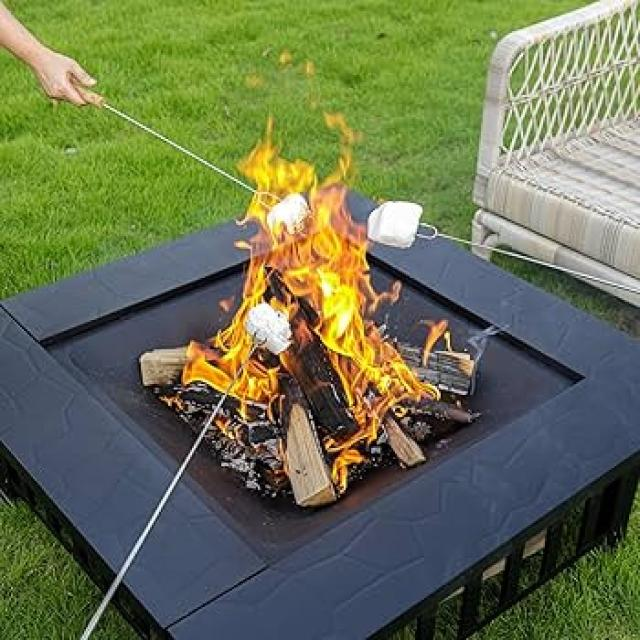fire: (183, 110, 438, 495)
